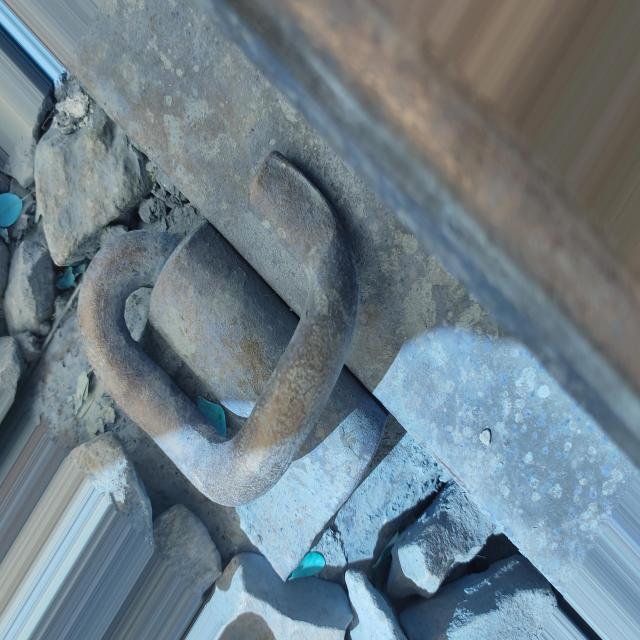Good Fasteners: (78, 154, 386, 579)
